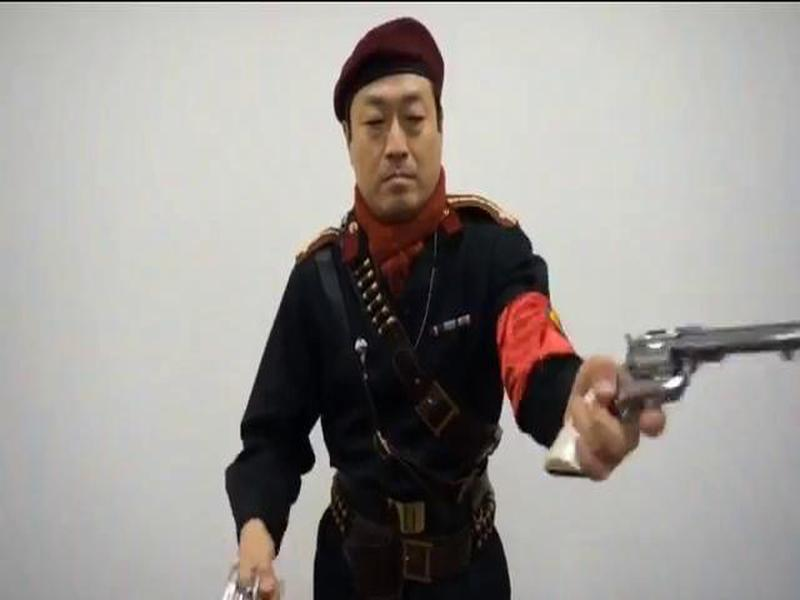Revolver: (540, 301, 800, 484)
